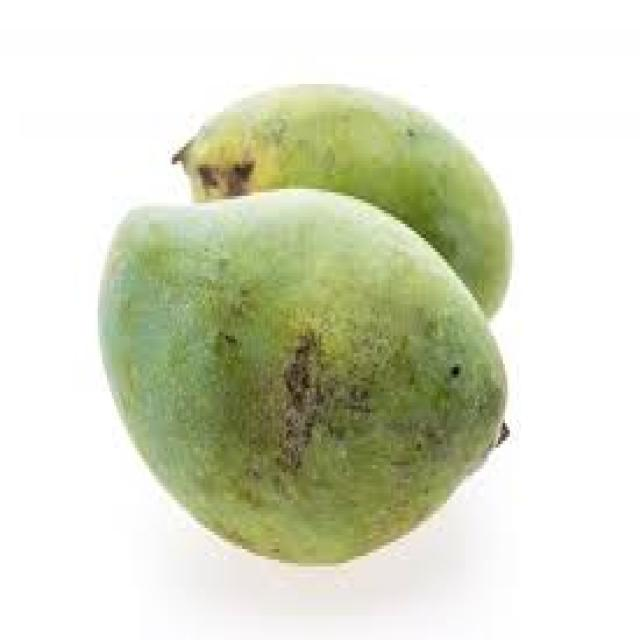Mango: (99, 187, 505, 554), (173, 84, 534, 300)
